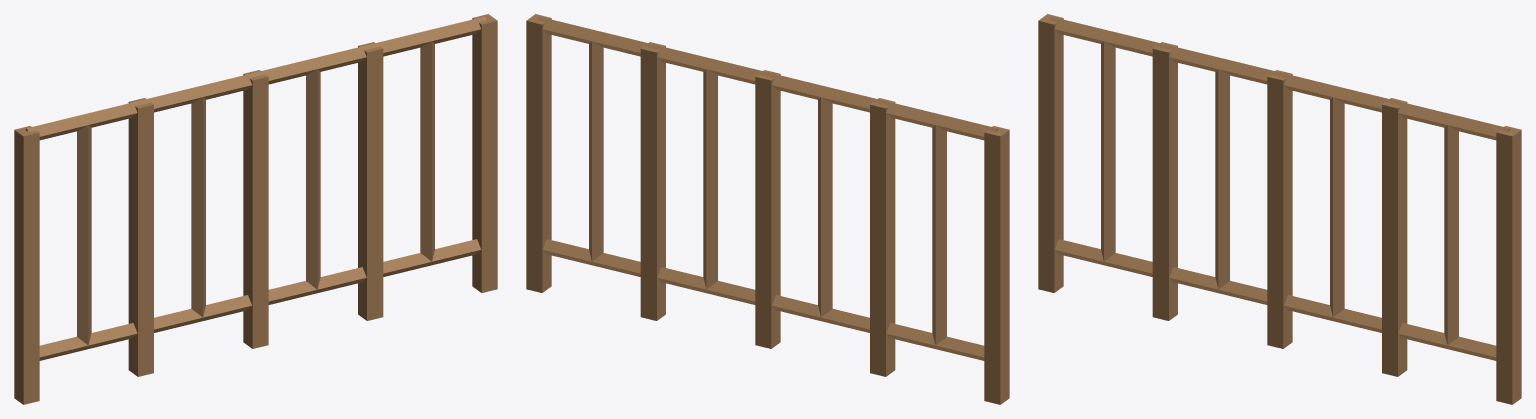
Rendered from WoodFence.glb.
3 renders of one model, left to right at view 1: azimuth 30°, elevation 25°; view 2: azimuth 150°, elevation 25°; view 3: azimuth 330°, elevation 25°, orthographic.
Parts seen in each view (by area): view 1: RAIL_Indochine_WoodFence_RailBody.001, RAIL_Indochine_WoodFence_StartPost.001, RAIL_Indochine_WoodFence_EndPost.001; view 2: RAIL_Indochine_WoodFence_RailBody.001, RAIL_Indochine_WoodFence_StartPost.001, RAIL_Indochine_WoodFence_EndPost.001; view 3: RAIL_Indochine_WoodFence_RailBody.001, RAIL_Indochine_WoodFence_EndPost.001, RAIL_Indochine_WoodFence_StartPost.001.
Boxes of the visible parts, x1=… form: RAIL_Indochine_WoodFence_RailBody.001: x1=25, y1=16, x2=486, y2=376; RAIL_Indochine_WoodFence_StartPost.001: x1=14, y1=126, x2=39, y2=404; RAIL_Indochine_WoodFence_EndPost.001: x1=472, y1=14, x2=497, y2=292; RAIL_Indochine_WoodFence_RailBody.001: x1=537, y1=16, x2=998, y2=376; RAIL_Indochine_WoodFence_StartPost.001: x1=984, y1=126, x2=1009, y2=404; RAIL_Indochine_WoodFence_EndPost.001: x1=526, y1=14, x2=551, y2=292; RAIL_Indochine_WoodFence_RailBody.001: x1=1049, y1=16, x2=1510, y2=376; RAIL_Indochine_WoodFence_EndPost.001: x1=1496, y1=126, x2=1521, y2=404; RAIL_Indochine_WoodFence_StartPost.001: x1=1038, y1=14, x2=1063, y2=292.
Size of the model in its own units: 2.07 by 1.13 by 0.07.
